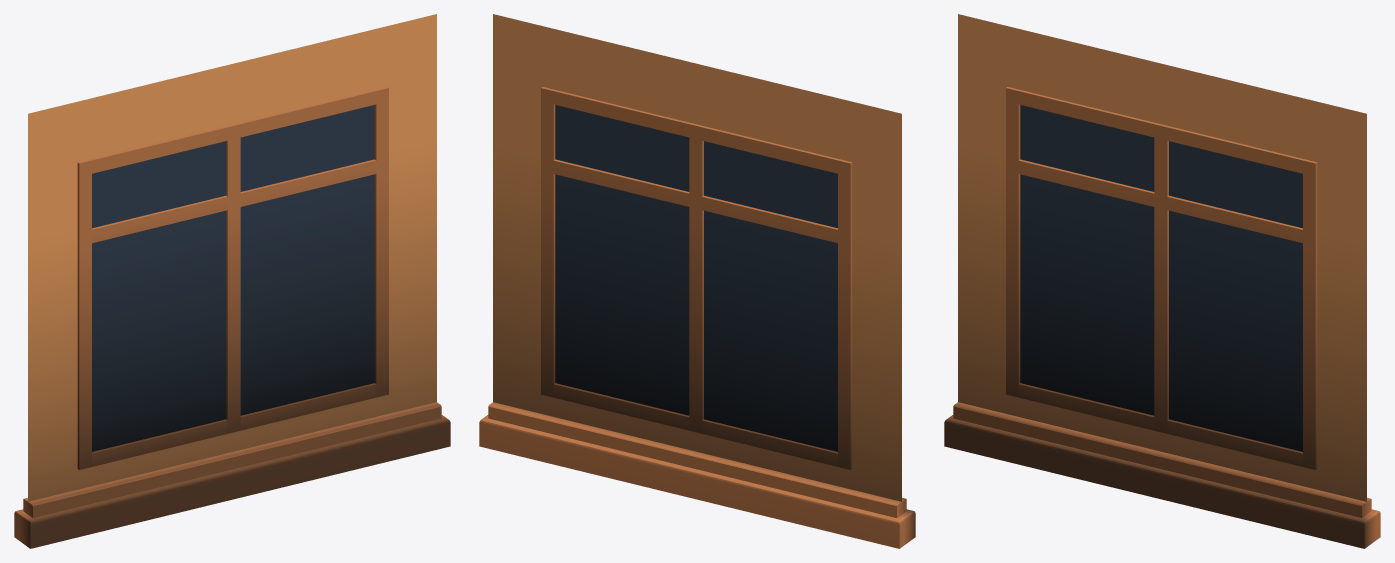
File: blockedWall1.fbx
3 views of the same model, side by side, from view 1: azimuth 30°, elevation 25°; view 2: azimuth 150°, elevation 25°; view 3: azimuth 330°, elevation 25° (orthographic).
Parts seen in each view (by area): view 1: pPlane1, pCube1, pCube3, pCube2, pCube4, pCube15, pCube13, pCube17, pCube5, pCube16, pCube14; view 2: pPlane1, pCube1, pCube3, pCube2, pCube4, pCube15, pCube13, pCube17, pCube5, pCube16, pCube14; view 3: pPlane1, pCube1, pCube4, pCube2, pCube3, pCube14, pCube5, pCube16, pCube13, pCube17, pCube15.
Boxes of the visible parts, x1=… form: pPlane1: x1=28, y1=14, x2=436, y2=501; pCube1: x1=14, y1=402, x2=450, y2=548; pCube3: x1=77, y1=159, x2=91, y2=469; pCube2: x1=226, y1=123, x2=240, y2=433; pCube4: x1=374, y1=87, x2=388, y2=397; pCube15: x1=240, y1=383, x2=376, y2=430; pCube13: x1=239, y1=90, x2=376, y2=137; pCube17: x1=240, y1=159, x2=376, y2=206; pCube5: x1=90, y1=126, x2=227, y2=173; pCube16: x1=92, y1=195, x2=227, y2=243; pCube14: x1=92, y1=419, x2=227, y2=466; pPlane1: x1=493, y1=14, x2=901, y2=501; pCube1: x1=479, y1=402, x2=915, y2=548; pCube3: x1=838, y1=159, x2=852, y2=469; pCube2: x1=689, y1=123, x2=703, y2=433; pCube4: x1=541, y1=87, x2=555, y2=397; pCube15: x1=553, y1=383, x2=689, y2=430; pCube13: x1=553, y1=90, x2=690, y2=137; pCube17: x1=553, y1=159, x2=689, y2=206; pCube5: x1=702, y1=126, x2=839, y2=173; pCube16: x1=702, y1=195, x2=837, y2=243; pCube14: x1=702, y1=419, x2=837, y2=466; pPlane1: x1=958, y1=14, x2=1366, y2=501; pCube1: x1=944, y1=402, x2=1380, y2=548; pCube4: x1=1303, y1=159, x2=1317, y2=469; pCube2: x1=1154, y1=123, x2=1168, y2=433; pCube3: x1=1006, y1=87, x2=1020, y2=397; pCube14: x1=1018, y1=383, x2=1154, y2=430; pCube5: x1=1018, y1=90, x2=1155, y2=137; pCube16: x1=1018, y1=159, x2=1154, y2=206; pCube13: x1=1167, y1=126, x2=1304, y2=173; pCube17: x1=1167, y1=195, x2=1302, y2=243; pCube15: x1=1167, y1=419, x2=1302, y2=466.
Bounding box in the file's own units: 3.08 × 3 × 0.2062.
